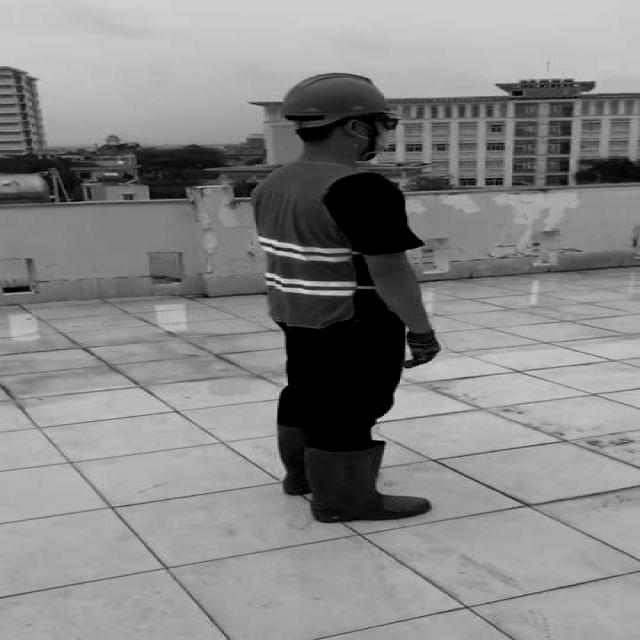boots: (306, 443, 428, 523), (272, 420, 372, 499), (406, 332, 447, 373)
head_helmet: (274, 69, 402, 123)
person: (239, 67, 461, 531)
vest: (252, 160, 377, 330)
